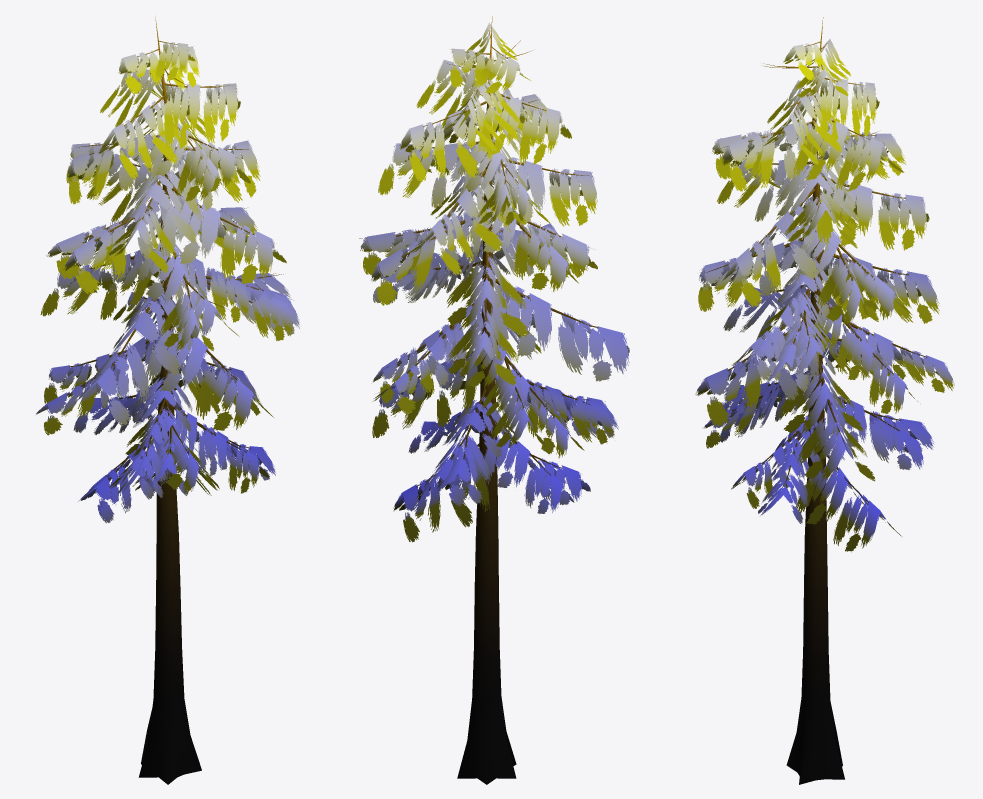
The model's file is SM_Tree_Large_03.fbx.
The picture shows the model from 3 angles, left to right: view 1: azimuth 30°, elevation 25°; view 2: azimuth 150°, elevation 25°; view 3: azimuth 270°, elevation 25°; orthographic projection.
Parts seen in each view (by area): view 1: SM_Tree_Large_03_LOD0; view 2: SM_Tree_Large_03_LOD0; view 3: SM_Tree_Large_03_LOD0.
Part boxes in pixels (x1,y1,x2,y2): SM_Tree_Large_03_LOD0: (36,17,299,784); SM_Tree_Large_03_LOD0: (359,16,629,784); SM_Tree_Large_03_LOD0: (695,17,954,784).
Bounding box in the file's own units: 782 × 2131 × 744.
